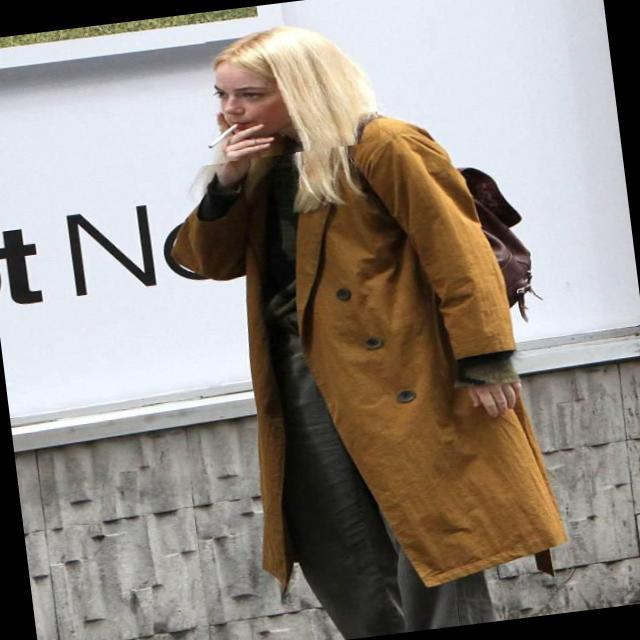cigarette: (188, 110, 235, 160)
